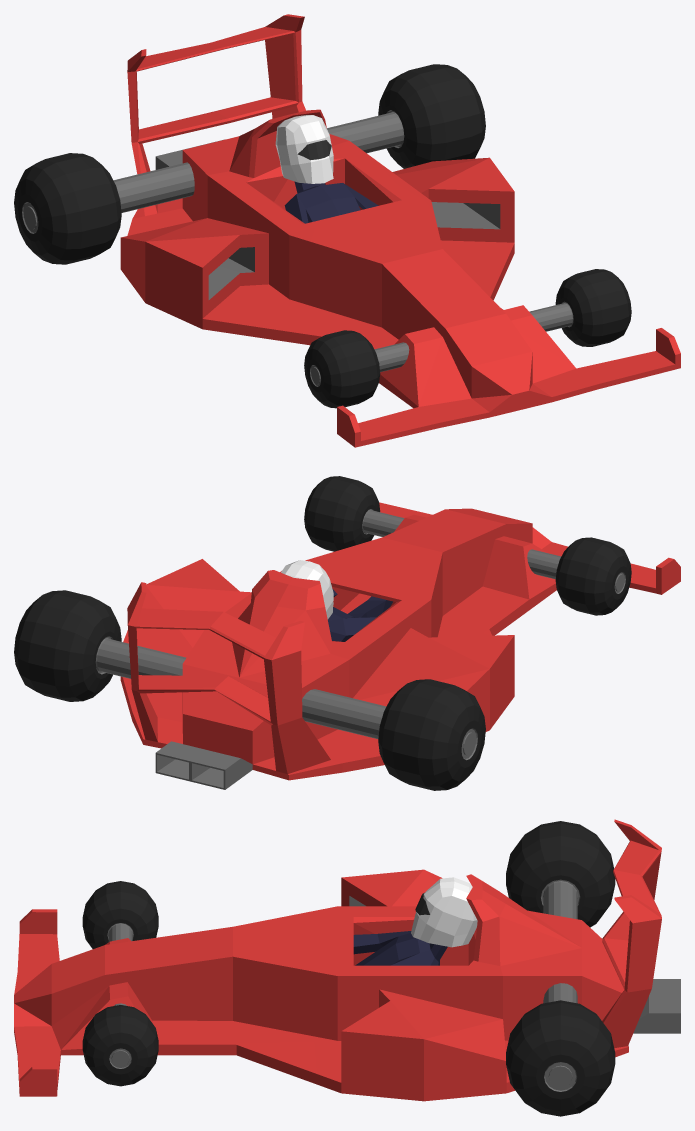
Rendered from RaceCar_LODs.fbx.
The picture shows the model from 3 angles, top to bottom: view 1: azimuth 30°, elevation 25°; view 2: azimuth 150°, elevation 25°; view 3: azimuth 270°, elevation 25°; orthographic projection.
Parts seen in each view (by area): view 1: Chassis_LOD0, WheelsBack_LOD0, WheelsFront_LOD0; view 2: Chassis_LOD0, WheelsBack_LOD0, WheelsFront_LOD0; view 3: Chassis_LOD0, WheelsBack_LOD0, WheelsFront_LOD0.
Boxes of the visible parts, bbox=[...] form: Chassis_LOD0: bbox=[120, 14, 680, 447]; WheelsBack_LOD0: bbox=[14, 64, 485, 264]; WheelsFront_LOD0: bbox=[304, 269, 631, 408]; Chassis_LOD0: bbox=[120, 502, 680, 789]; WheelsBack_LOD0: bbox=[14, 590, 485, 790]; WheelsFront_LOD0: bbox=[304, 476, 631, 615]; Chassis_LOD0: bbox=[14, 819, 680, 1101]; WheelsBack_LOD0: bbox=[506, 821, 615, 1116]; WheelsFront_LOD0: bbox=[82, 881, 158, 1086].
Size of what is drawn, in the model's own units: 288 by 98.38 by 375.
